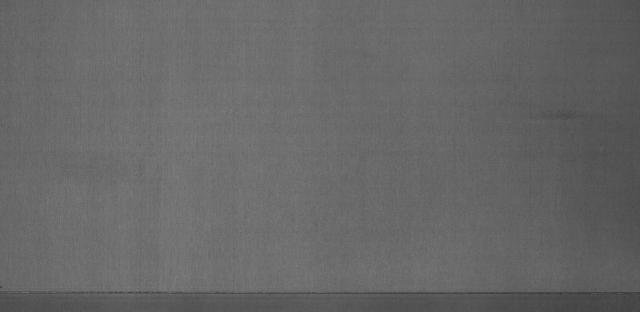welding_line: (3, 285, 639, 303)
